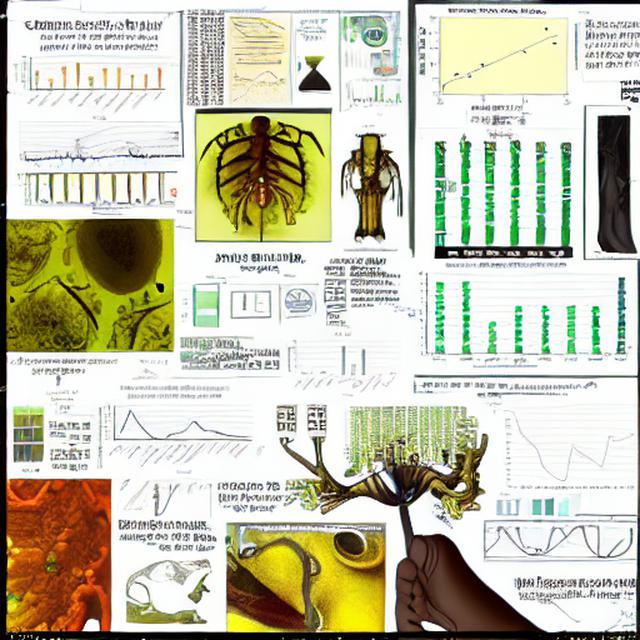Graph: (402, 262, 588, 371), (420, 5, 573, 111), (95, 383, 255, 477), (11, 31, 169, 120), (503, 410, 637, 491), (283, 329, 402, 401), (342, 77, 408, 116), (228, 61, 289, 97)
